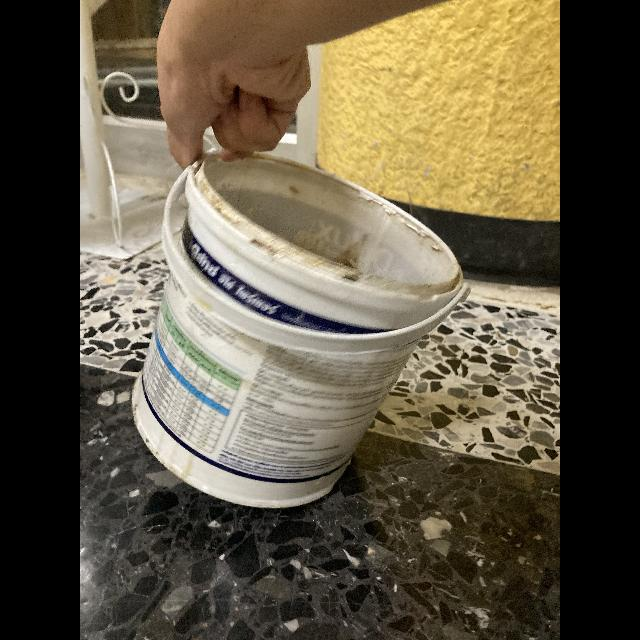paint_bucket: (134, 142, 472, 514)
